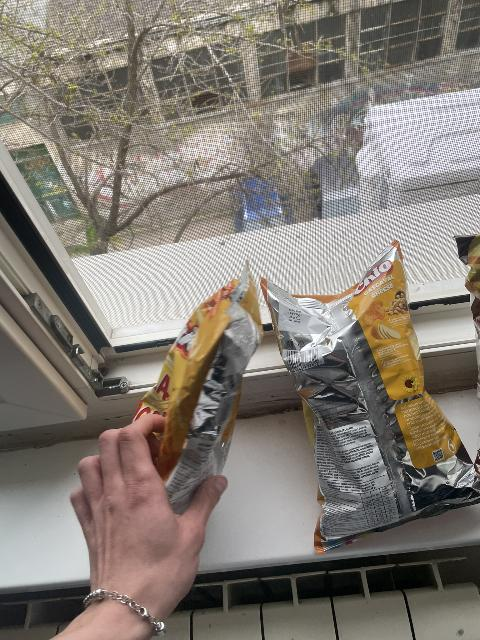Chio Cascaval 125g: (252, 242, 472, 555)
Chio Hula Hoops Cheese 70g: (135, 271, 260, 495)
